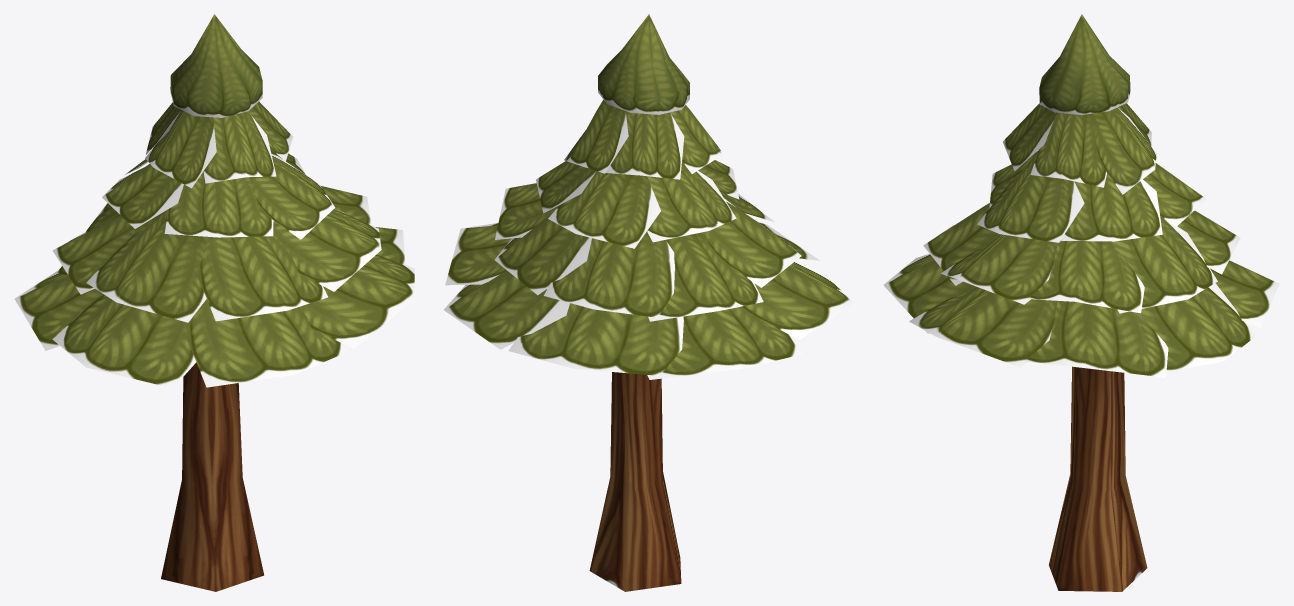
File: eatsheep_farm_tree.obj
3 renders of one model, left to right at view 1: azimuth 30°, elevation 25°; view 2: azimuth 150°, elevation 25°; view 3: azimuth 270°, elevation 25°, orthographic.
Visible parts, largest first — view 1: farm_tree_farm_tree_mesh; view 2: farm_tree_farm_tree_mesh; view 3: farm_tree_farm_tree_mesh.
Part boxes in pixels (x1=…): farm_tree_farm_tree_mesh: x1=14, y1=14, x2=414, y2=591; farm_tree_farm_tree_mesh: x1=444, y1=14, x2=853, y2=591; farm_tree_farm_tree_mesh: x1=883, y1=14, x2=1279, y2=591.
Bounding box in the file's own units: 1.74 × 2.61 × 1.68.
1 material, 1 textured.
